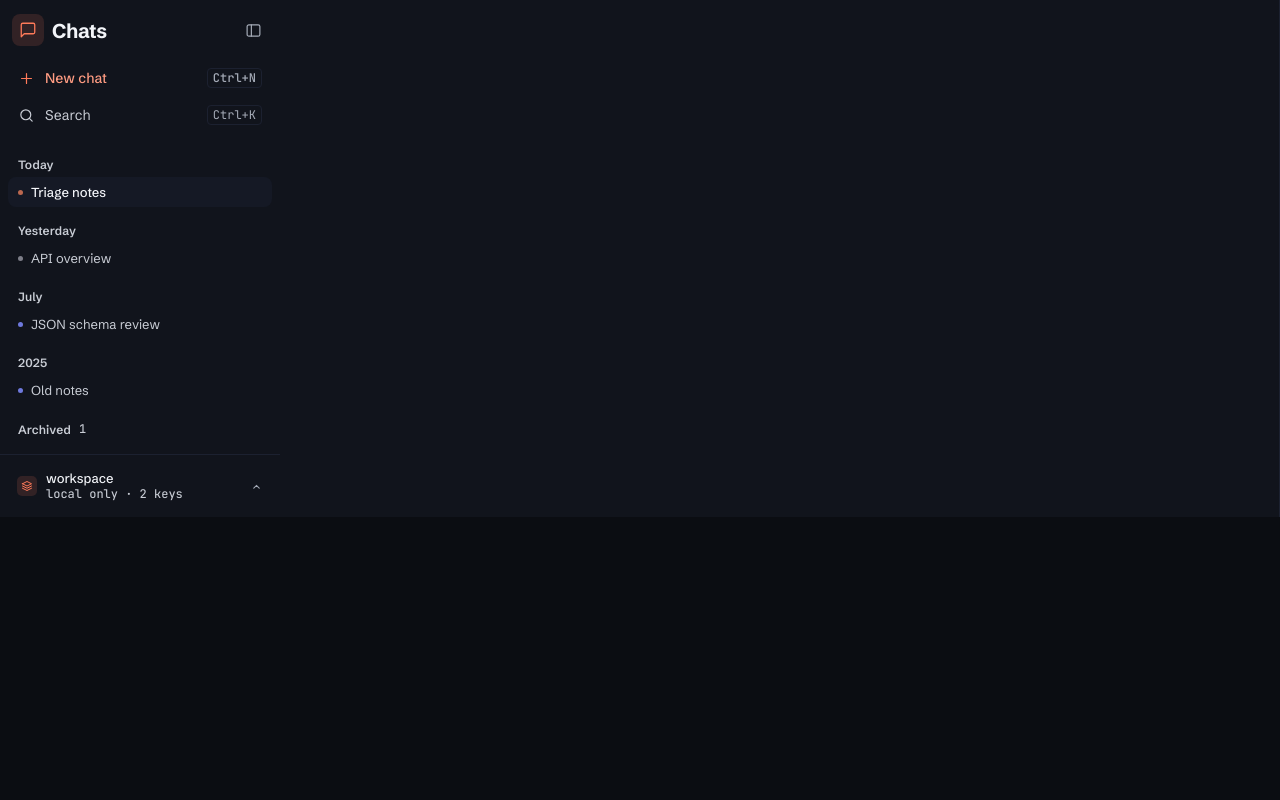
Sidebar › pin / archive / folders › hides archived chats until the Archived section is opened
The width and height of the screenshot is (1280, 800).
Expected: the text "Put away" is not shown
Click the button "Archived 1" at [45, 429], box [8,405,272,442]
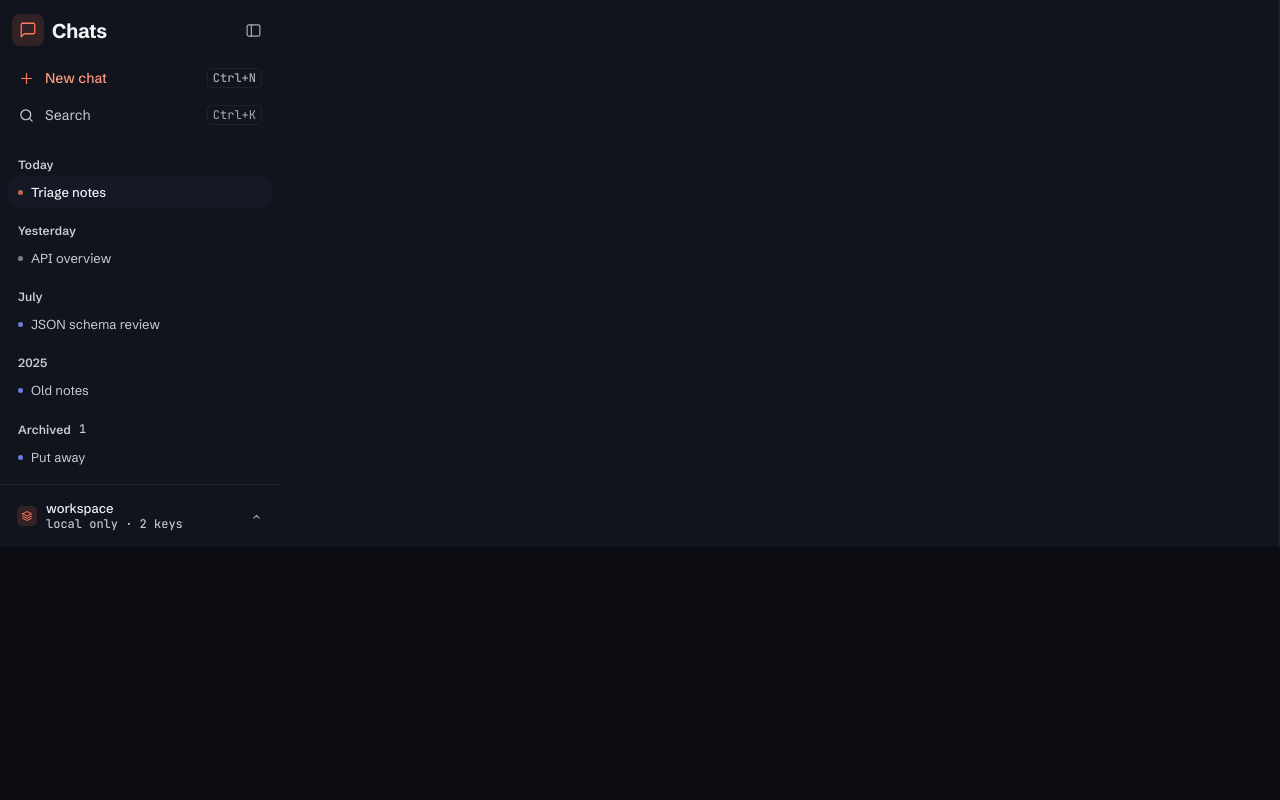
Now the text "Put away" is shown, box [31,449,85,465]
